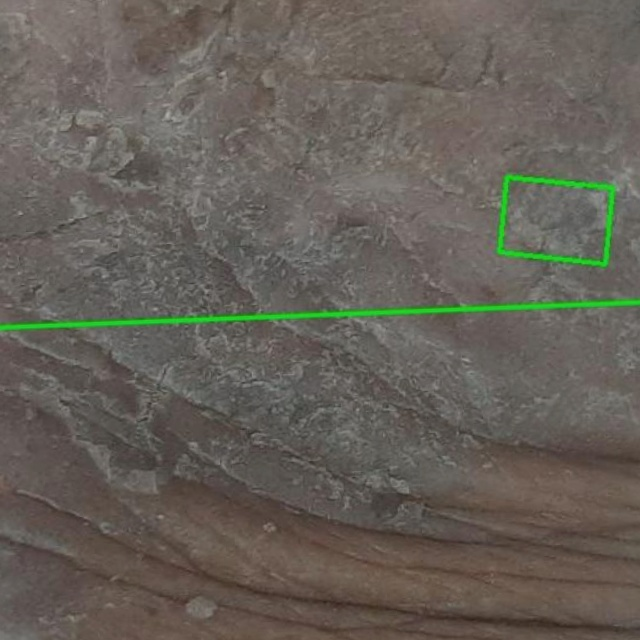Eczema: (0, 302, 639, 639), (499, 176, 613, 262)
